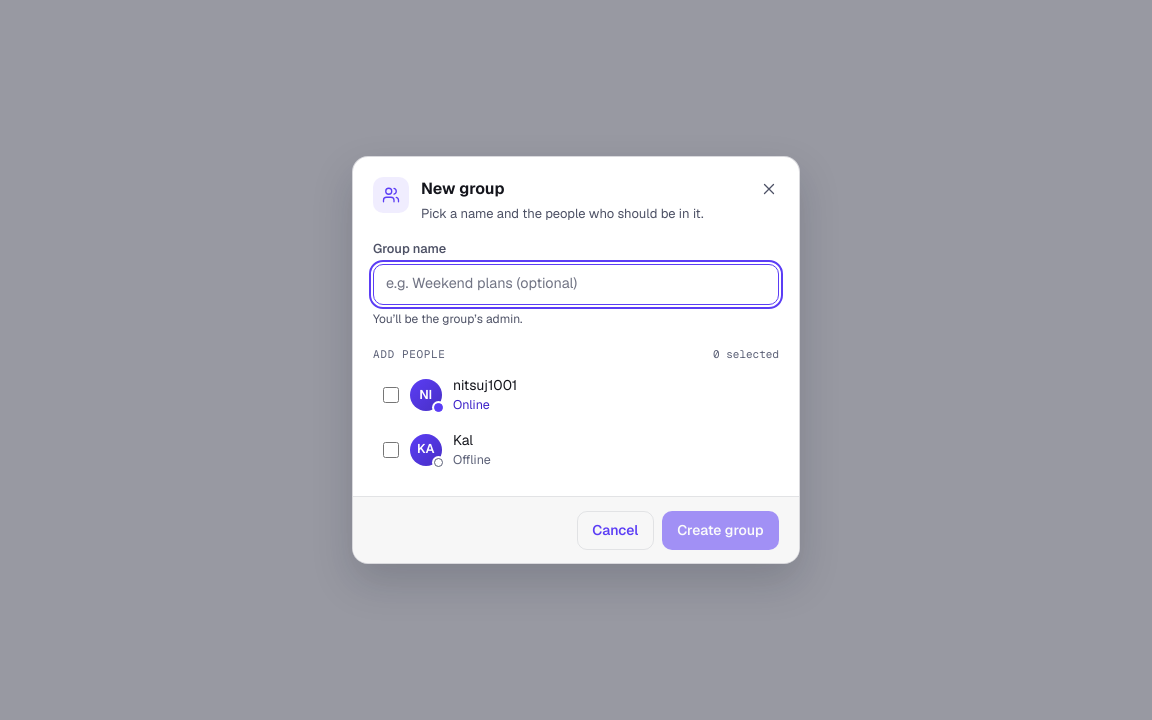
GroupModal › shows who’s in as chips that can be removed again
Expected: the text "Kal" is shown, top-left (453, 431), bottom-right (473, 449)
Click the checkbox labelled "KA Kal Offline". click: coordinates (391, 450)
box: top-left (383, 442), bottom-right (399, 458)
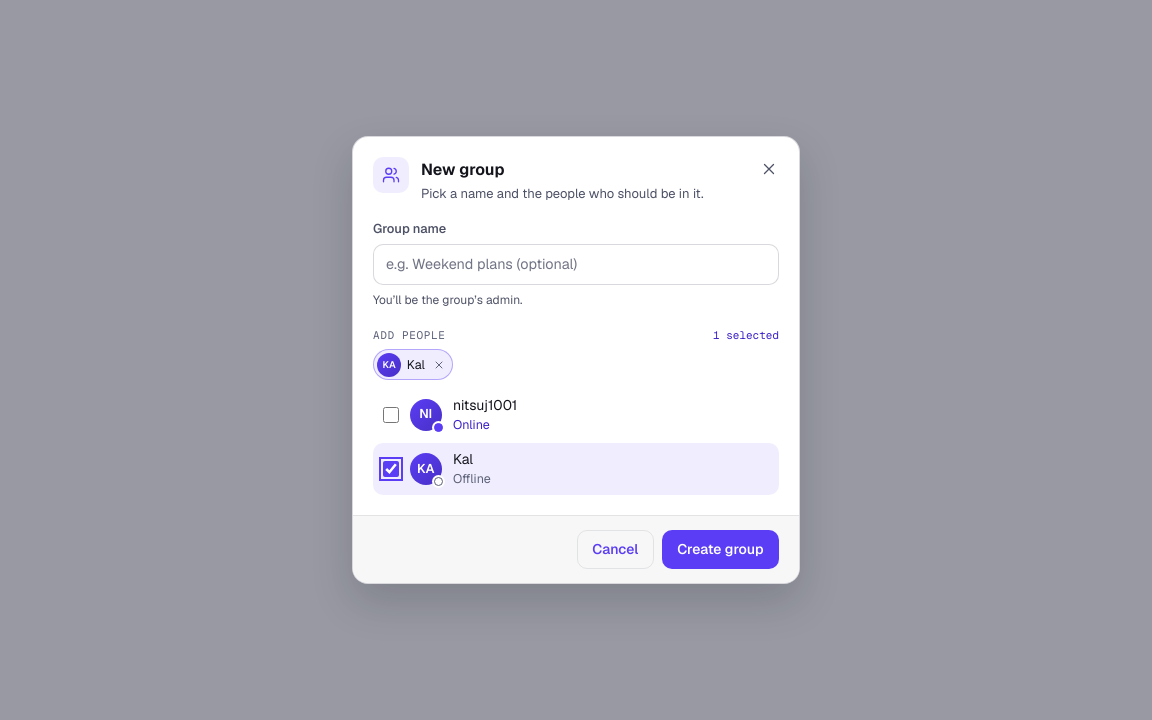
Expected: the list item "Kal" is shown, top-left (407, 356), bottom-right (425, 372)
Expected: the text "1 selected" is shown, top-left (713, 327), bottom-right (779, 343)
Click the button named "Remove Kal". click: coordinates (439, 365)
box: top-left (430, 356), bottom-right (448, 374)
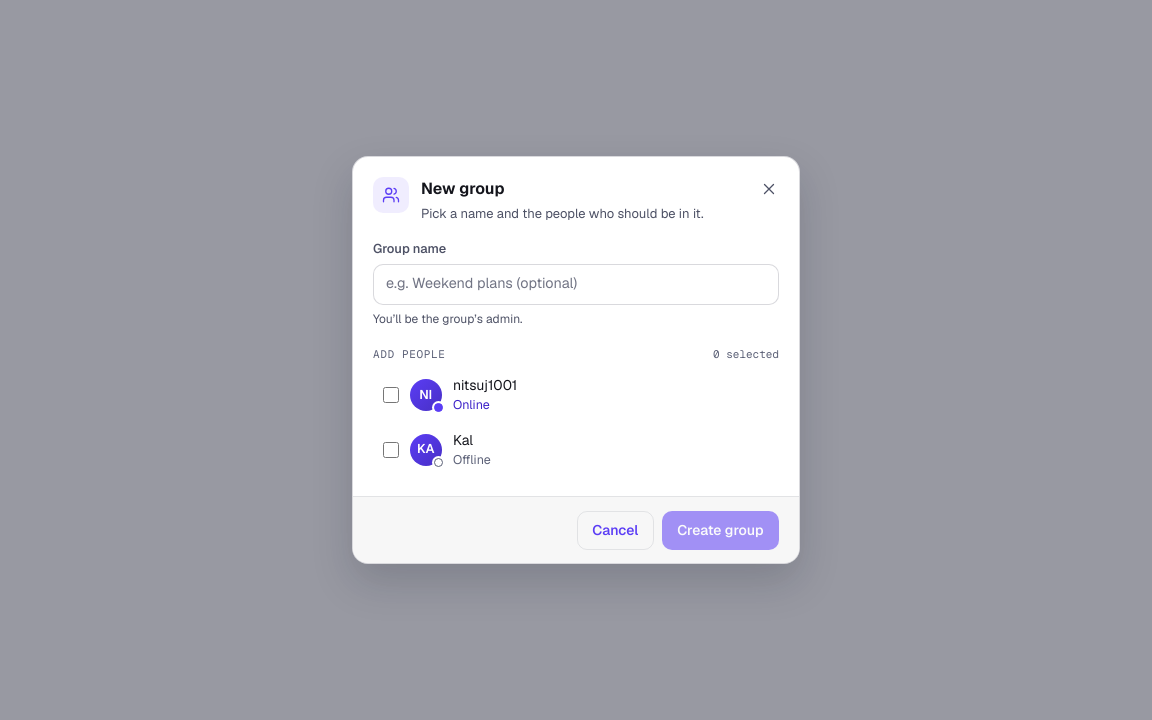
Expected: the checkbox labelled "KA Kal Offline" is not checked, top-left (383, 442), bottom-right (399, 458)
Expected: the button "Create group" is disabled, top-left (662, 510), bottom-right (779, 550)
